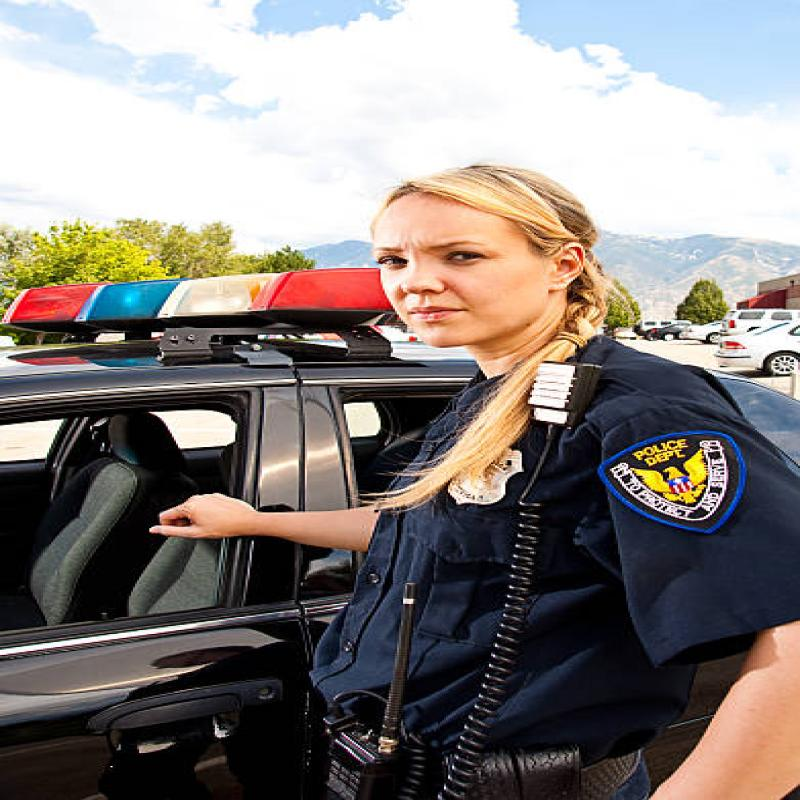AmbulanceSiren: (0, 238, 409, 348)
